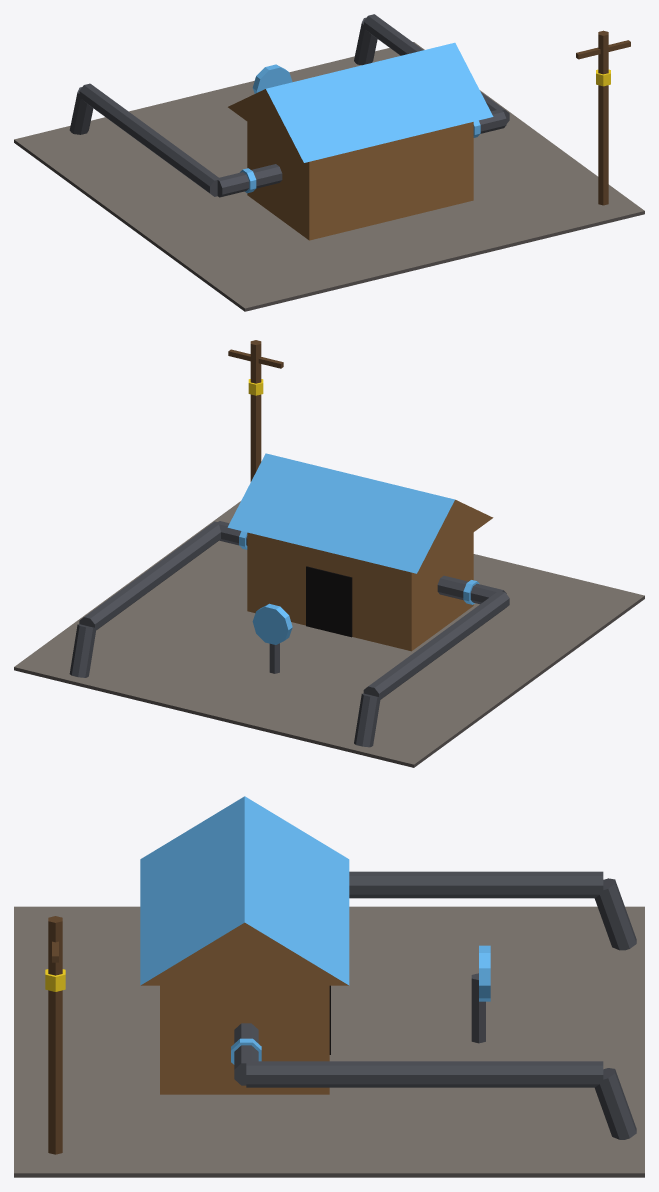
File: water_pump_2.glb
3 views of the same model, one above another, from view 1: azimuth 30°, elevation 25°; view 2: azimuth 150°, elevation 25°; view 3: azimuth 270°, elevation 25° (orthographic). The views are drawn at different scales.
Visible parts, largest first — view 1: water_pump_2; view 2: water_pump_2; view 3: water_pump_2.
Part boxes in pixels (x1,y1,x2,y2): water_pump_2: (14,14,644,311); water_pump_2: (14,340,644,767); water_pump_2: (14,796,644,1177).
Bounding box in the file's own units: 3.8 × 1.6 × 3.8.
